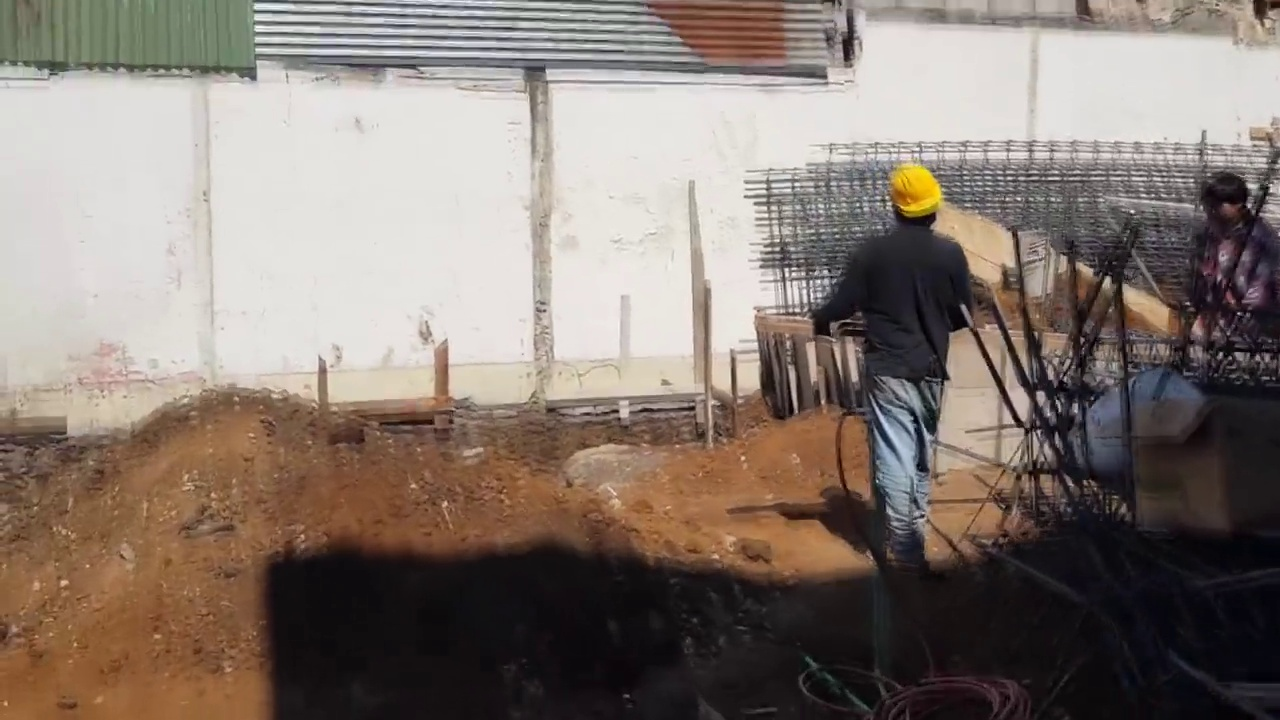helmet: (889, 164, 949, 215)
helmet-off: (1203, 170, 1249, 230)
helmet-on: (879, 159, 949, 242)
person: (816, 157, 988, 579), (1186, 165, 1268, 382)
